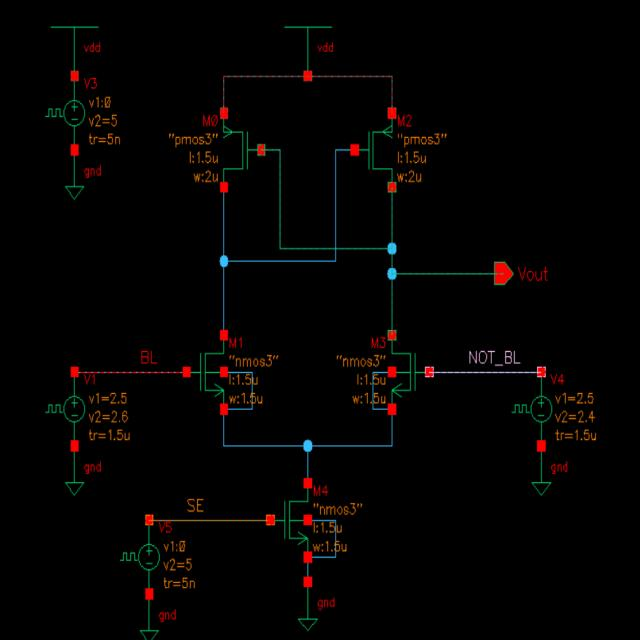nmos: (383, 326, 438, 418), (268, 479, 316, 565), (182, 328, 228, 417)
pmos: (349, 104, 399, 200), (218, 103, 267, 198)
vdc: (116, 514, 164, 601), (45, 70, 88, 162), (42, 368, 88, 454), (510, 369, 554, 455)
